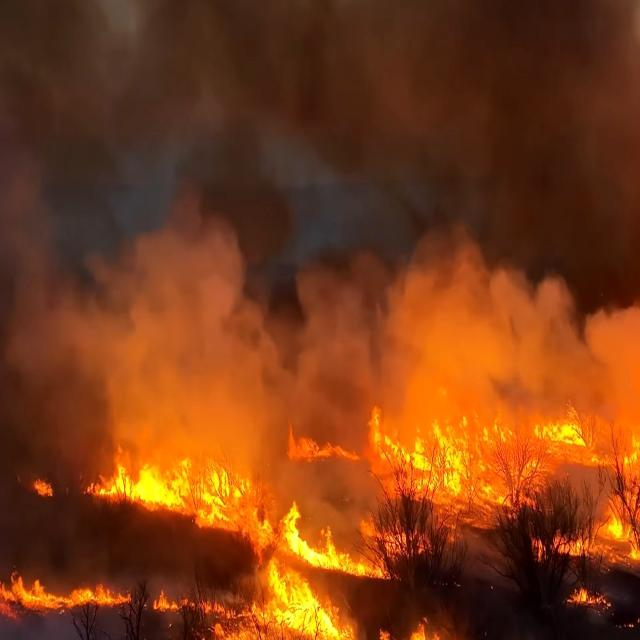fire: (85, 439, 248, 550), (337, 415, 469, 529), (258, 522, 374, 640)
smoke: (0, 0, 363, 379), (408, 0, 640, 372), (150, 0, 344, 119)
